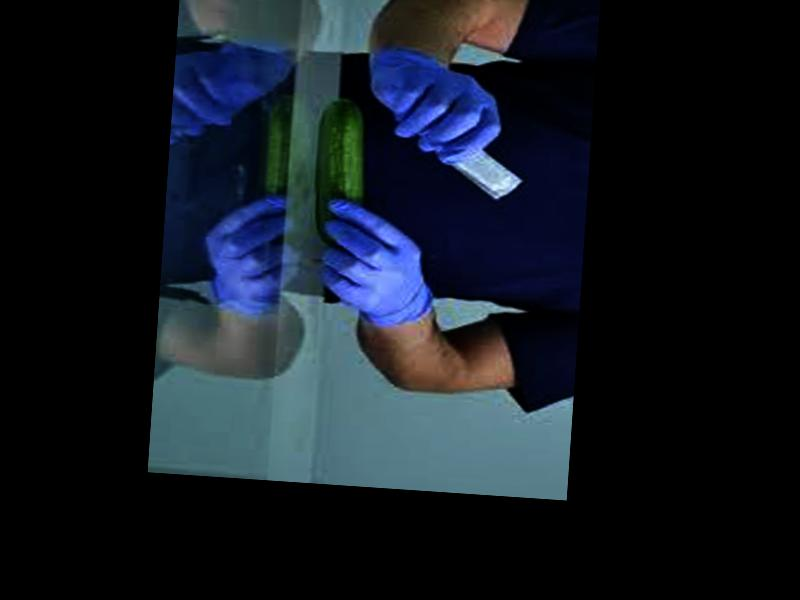Cucumber: (310, 96, 370, 246)
